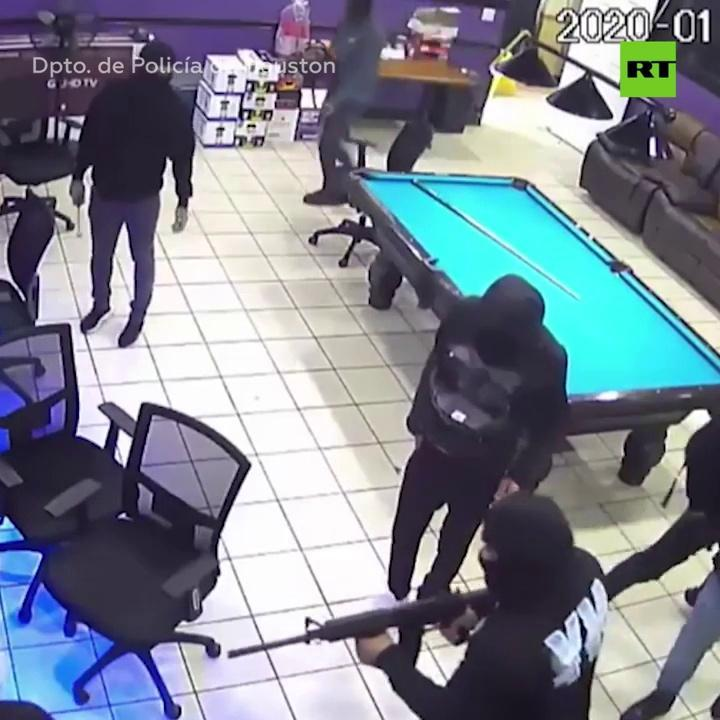Long guns: (217, 586, 498, 696)
